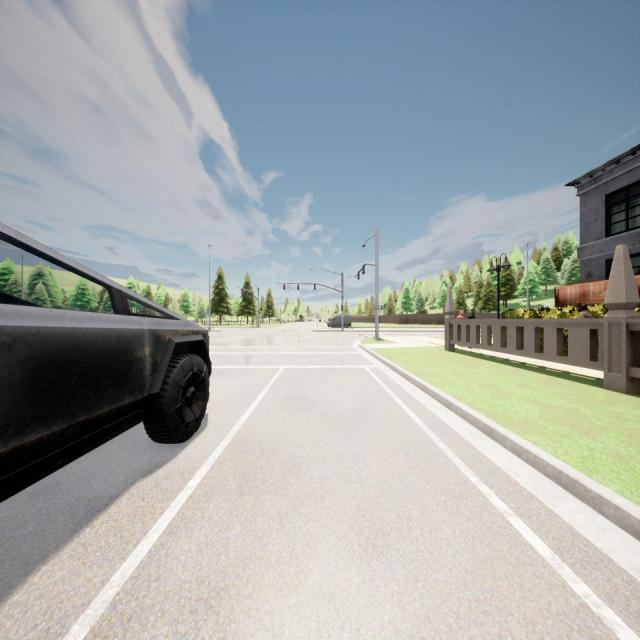Pedestrian: (576, 302, 591, 318), (456, 309, 466, 319), (467, 308, 477, 318)
Traffic_Signs: (373, 305, 383, 310), (316, 313, 319, 320)
Vehicle: (0, 223, 210, 500), (326, 314, 352, 328)
traffic_light: (361, 264, 365, 274), (356, 271, 359, 280), (342, 304, 344, 312), (283, 283, 285, 290), (297, 283, 299, 290), (314, 284, 316, 290)
